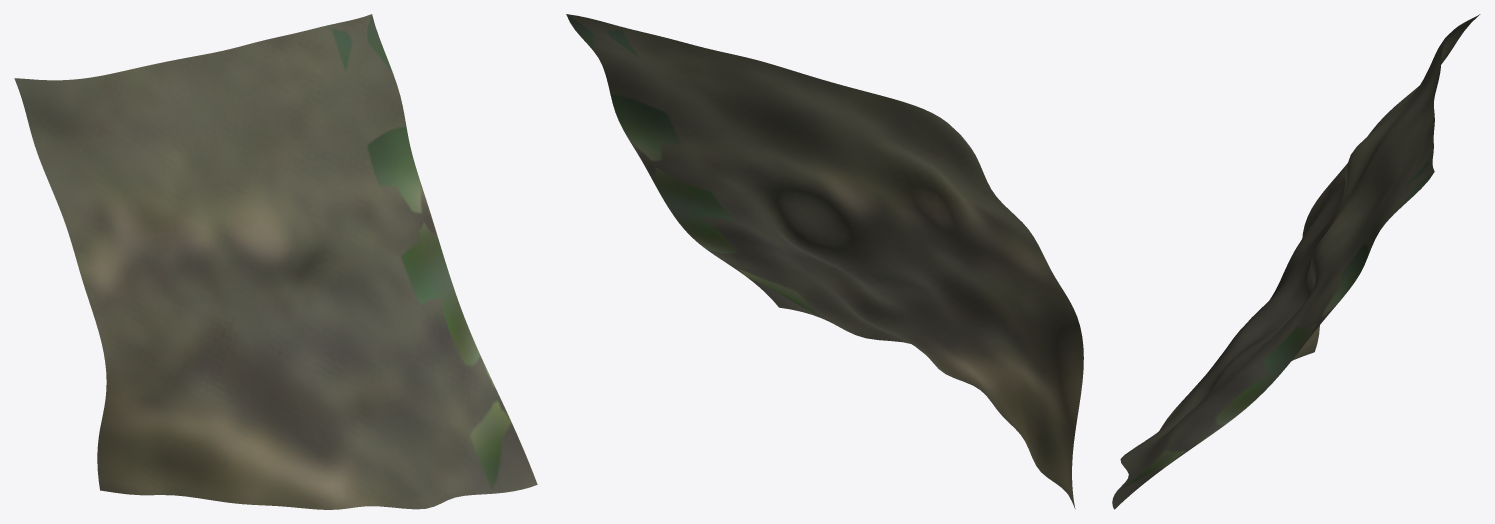
The model's file is ground_mid_09_02.obj.
3 renders of one model, left to right at view 1: azimuth 30°, elevation 25°; view 2: azimuth 150°, elevation 25°; view 3: azimuth 270°, elevation 25°, orthographic. The views are drawn at different scales.
Visible parts, largest first — view 1: ground_mid_09_02; view 2: ground_mid_09_02; view 3: ground_mid_09_02.
Boxes of the visible parts, x1,y1,x2,y2 form: ground_mid_09_02: [14, 14, 537, 509]; ground_mid_09_02: [566, 14, 1083, 508]; ground_mid_09_02: [1112, 14, 1480, 509].
Bounding box in the file's own units: 200 × 200 × 197.
Materials: 1 (1 with a texture image).
